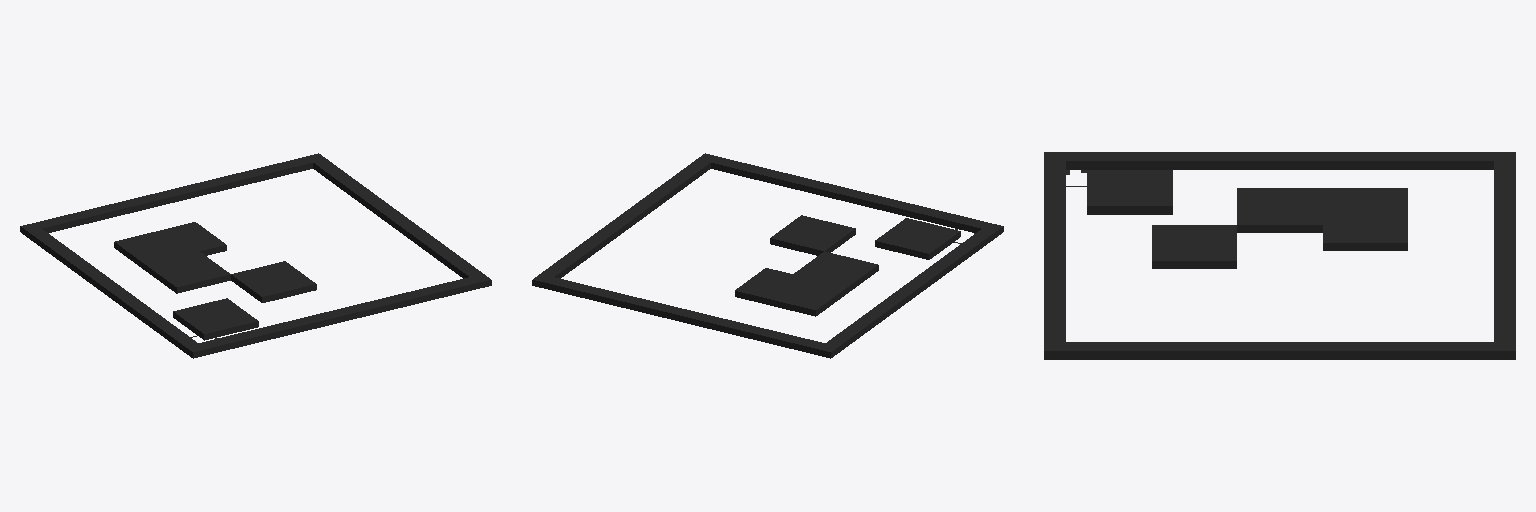
robot.urdf — Room25:
<robot name="Room25">
    <link name="_name">
        <visual> 
            <origin rpy="0.0 0.0 0.0" xyz="-0.41309643660910395 -0.47560859916600556 -0.01" />
                <geometry>
                    <mesh filename="Room25/Room25.obj" scale="1 1 0.1" />
                </geometry>

            <material name="black">
                <color rgba="0.2 0.2 0.2 0.95" />
            </material>
        </visual>

       <collision concave="yes" name="collision_0">
            <origin rpy="0.0 0.0 0.0" xyz="-0.41309643660910395 -0.47560859916600556 -0.01" />
            <geometry>
                <mesh filename="Room25/Room25_vhacd.obj" scale="1 1 0.1" />
            </geometry>
        </collision>

        <inertial> 
            <mass value="0" />
            <inertia ixx="0" ixy="0" ixz="0" iyy="0" iyz="0" izz="0" />
        </inertial> 
    </link>
</robot>

--- Render facts (derived) ---
The picture shows the robot from 3 angles, left to right: view 1: azimuth 30°, elevation 25°; view 2: azimuth 150°, elevation 25°; view 3: azimuth 270°, elevation 25°; orthographic projection.
Model Room25 with 1 links and 0 joints (none), rooted at _name, posed every joint at zero.
Visible links, largest first — view 1: _name; view 2: _name; view 3: _name.
Link boxes in pixels (x1,y1,x2,y2): _name: [20, 153, 491, 358]; _name: [532, 153, 1003, 358]; _name: [1044, 152, 1515, 359].
Bounding box of the posed robot: 1 × 1 × 0.02 m (x, y, z).
Meshes: 1 distinct files referenced, 1 mesh visuals loaded (1 OBJ).